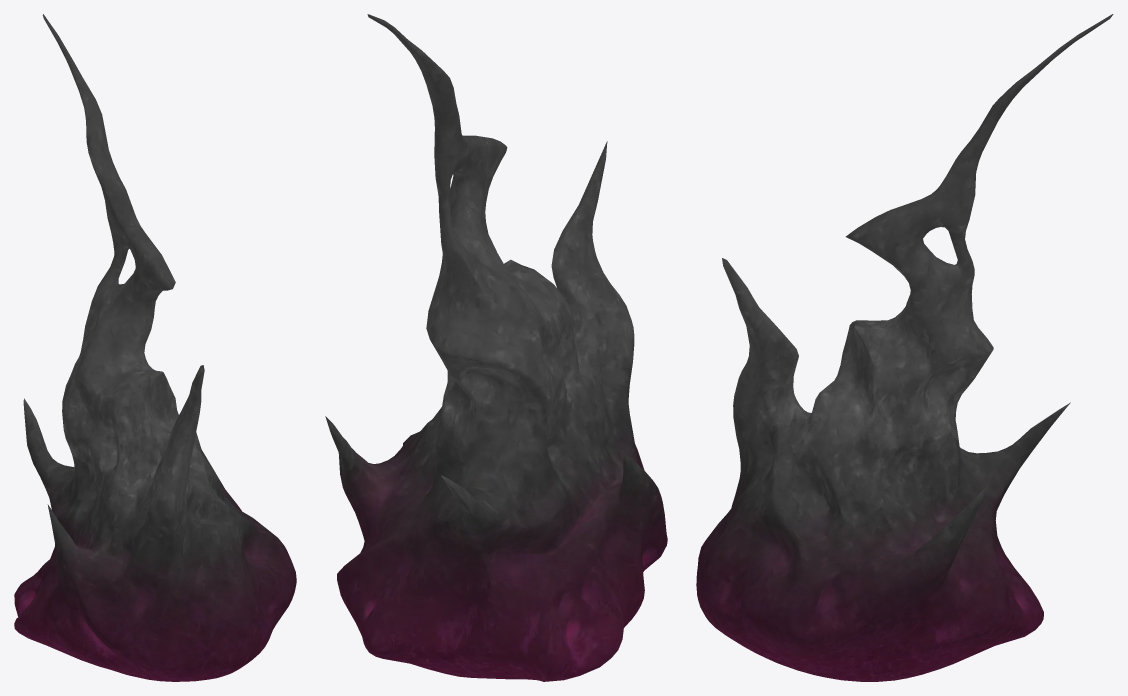
The picture shows the model from 3 angles, left to right: view 1: azimuth 30°, elevation 25°; view 2: azimuth 150°, elevation 25°; view 3: azimuth 270°, elevation 25°; orthographic projection. The views are drawn at different scales.
Parts seen in each view (by area): view 1: SM_WitherSpine_Med_LOD0; view 2: SM_WitherSpine_Med_LOD0; view 3: SM_WitherSpine_Med_LOD0.
Boxes of the visible parts, left/top/right/bottom form: SM_WitherSpine_Med_LOD0: left=14, top=14, right=296, bottom=681; SM_WitherSpine_Med_LOD0: left=325, top=14, right=667, bottom=681; SM_WitherSpine_Med_LOD0: left=696, top=14, right=1113, bottom=681.
Size of the model in its own units: 7.67 by 18.91 by 10.86.
1 material, 1 textured.
